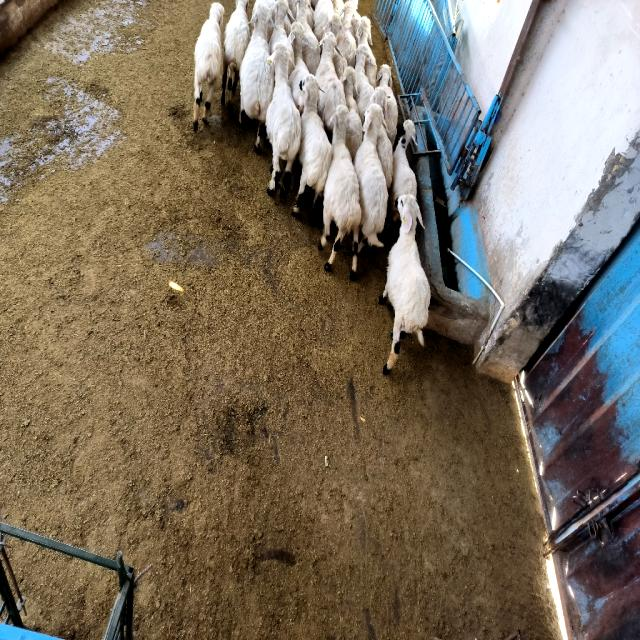sheep: (379, 195, 430, 374), (319, 105, 361, 276), (265, 0, 301, 196), (292, 75, 331, 221), (266, 42, 301, 197), (239, 0, 274, 151), (354, 103, 389, 251), (194, 3, 224, 131), (221, 0, 250, 108), (315, 32, 345, 132), (390, 120, 416, 221), (370, 87, 392, 189), (341, 67, 362, 159), (289, 22, 309, 113), (296, 0, 320, 74), (378, 65, 398, 144), (356, 17, 378, 86), (355, 45, 375, 119), (336, 2, 356, 66)
